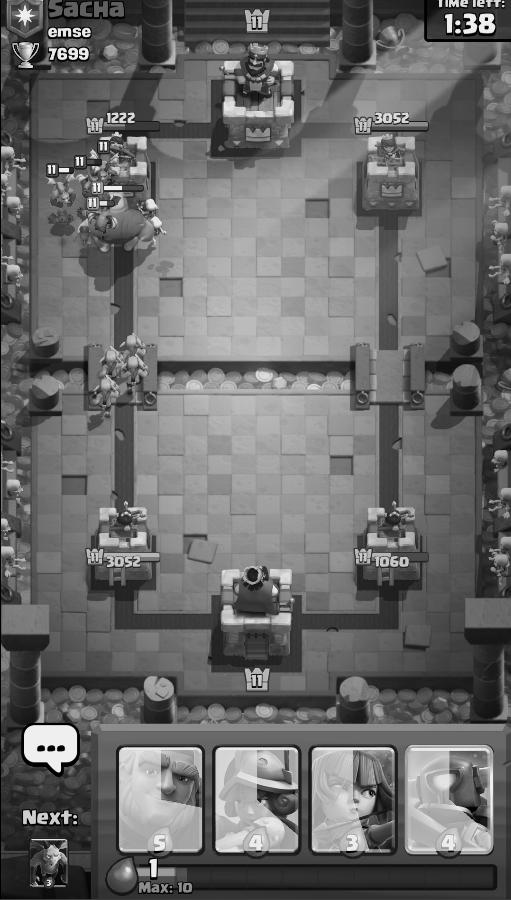bat: (73, 226, 97, 247), (49, 209, 75, 227)
gargouille: (44, 177, 80, 205), (88, 157, 122, 181), (89, 208, 120, 234), (76, 172, 99, 195)
geant: (83, 193, 153, 252)
gobelin: (91, 379, 123, 416), (123, 355, 146, 395), (119, 335, 149, 362), (100, 347, 124, 380)
squelette: (148, 214, 167, 247), (139, 196, 161, 218)
